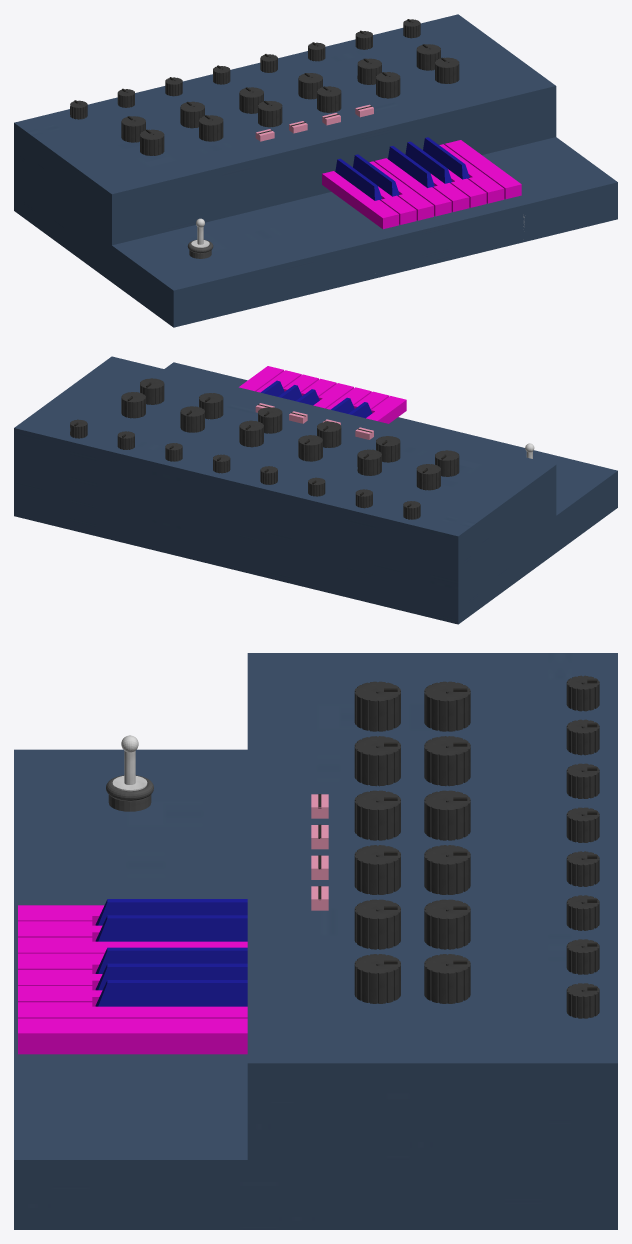
Rendered from Music_keyboard__0130.glb.
3 renders of one model, top to bottom at view 1: azimuth 30°, elevation 25°; view 2: azimuth 150°, elevation 25°; view 3: azimuth 270°, elevation 25°, orthographic. The views are drawn at different scales.
Parts seen in each view (by area): view 1: chassis::control_deck, chassis::base_shell, white_key_0::key_body, white_key_7::key_body, white_key_3::key_body, white_key_6::key_body, white_key_2::key_body, black_key_2::key_body, black_key_0::key_body, black_key_3::key_body, black_key_1::key_body, black_key_4::key_body (+15 smaller); view 2: chassis::control_deck, chassis::base_shell, white_key_0::key_body, filter_knob_1_1::knob_body, osc_knob_1_2::knob_body, filter_knob_1_0::knob_body, osc_knob_1_1::knob_body, filter_knob_1_2::knob_body, osc_knob_1_0::knob_body, filter_knob_0_0::knob_body, filter_knob_0_2::knob_body, osc_knob_0_0::knob_body (+5 smaller); view 3: chassis::control_deck, chassis::base_shell, white_key_7::key_body, black_key_4::key_body, black_key_1::key_body, white_key_6::key_body, black_key_3::key_body, black_key_0::key_body, black_key_2::key_body, white_key_2::key_body, filter_knob_1_1::knob_body, filter_knob_0_1::knob_body (+24 smaller).
Part boxes in pixels (x1,y1,x2,y2): chassis::control_deck: [14, 14, 556, 245]; chassis::base_shell: [14, 137, 617, 327]; white_key_0::key_body: [322, 171, 398, 229]; white_key_7::key_body: [444, 140, 521, 199]; white_key_3::key_body: [374, 158, 451, 216]; white_key_6::key_body: [439, 144, 504, 203]; white_key_2::key_body: [369, 161, 433, 220]; black_key_2::key_body: [388, 146, 434, 187]; black_key_0::key_body: [335, 158, 381, 200]; black_key_3::key_body: [405, 141, 452, 183]; black_key_1::key_body: [353, 154, 399, 196]; black_key_4::key_body: [423, 137, 469, 179]; chassis::control_deck: [14, 356, 556, 587]; chassis::base_shell: [14, 362, 617, 624]; white_key_0::key_body: [366, 396, 406, 423]; filter_knob_1_1::knob_body: [180, 406, 204, 432]; osc_knob_1_2::knob_body: [298, 435, 322, 461]; filter_knob_1_0::knob_body: [239, 420, 263, 447]; osc_knob_1_1::knob_body: [357, 449, 381, 475]; filter_knob_1_2::knob_body: [121, 392, 145, 418]; osc_knob_1_0::knob_body: [416, 464, 440, 490]; filter_knob_0_0::knob_body: [258, 407, 282, 433]; filter_knob_0_2::knob_body: [140, 378, 164, 404]; osc_knob_0_0::knob_body: [435, 450, 459, 476]; chassis::control_deck: [247, 653, 617, 1159]; chassis::base_shell: [14, 749, 617, 1229]; white_key_7::key_body: [18, 1018, 247, 1054]; black_key_4::key_body: [95, 980, 247, 1006]; black_key_1::key_body: [95, 915, 247, 941]; white_key_6::key_body: [18, 1002, 247, 1018]; black_key_3::key_body: [95, 963, 247, 990]; black_key_0::key_body: [95, 899, 247, 925]; black_key_2::key_body: [95, 947, 247, 973]; white_key_2::key_body: [18, 937, 247, 953]; filter_knob_1_1::knob_body: [424, 899, 470, 949]; filter_knob_0_1::knob_body: [354, 899, 400, 949].
Bounding box in the file's own units: 0.502 × 0.114 × 0.3124.
Materials: 8 (5 with a texture image).
